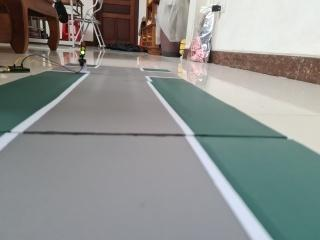green: (76, 34, 92, 67)
